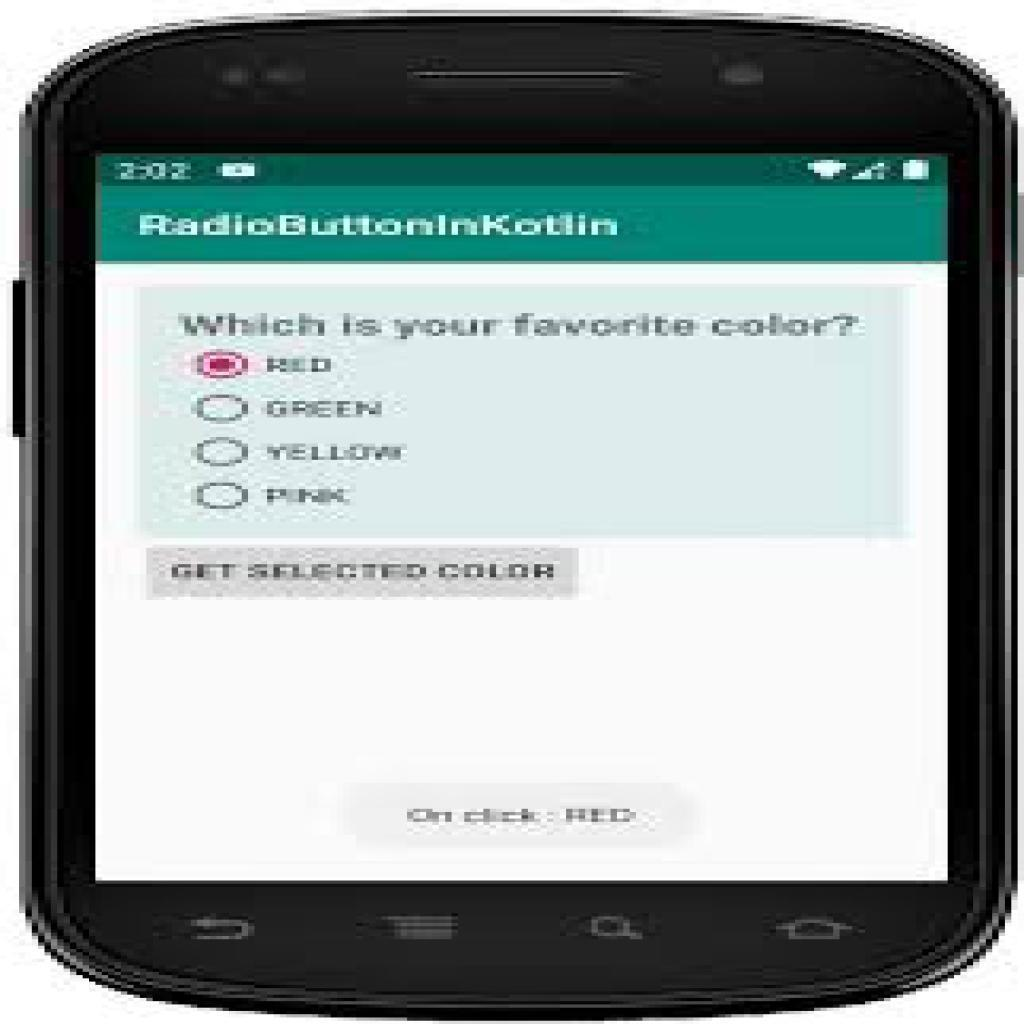button: (147, 545, 581, 602)
radio: (195, 389, 255, 429), (191, 434, 252, 471), (193, 479, 253, 514), (198, 347, 253, 382)
